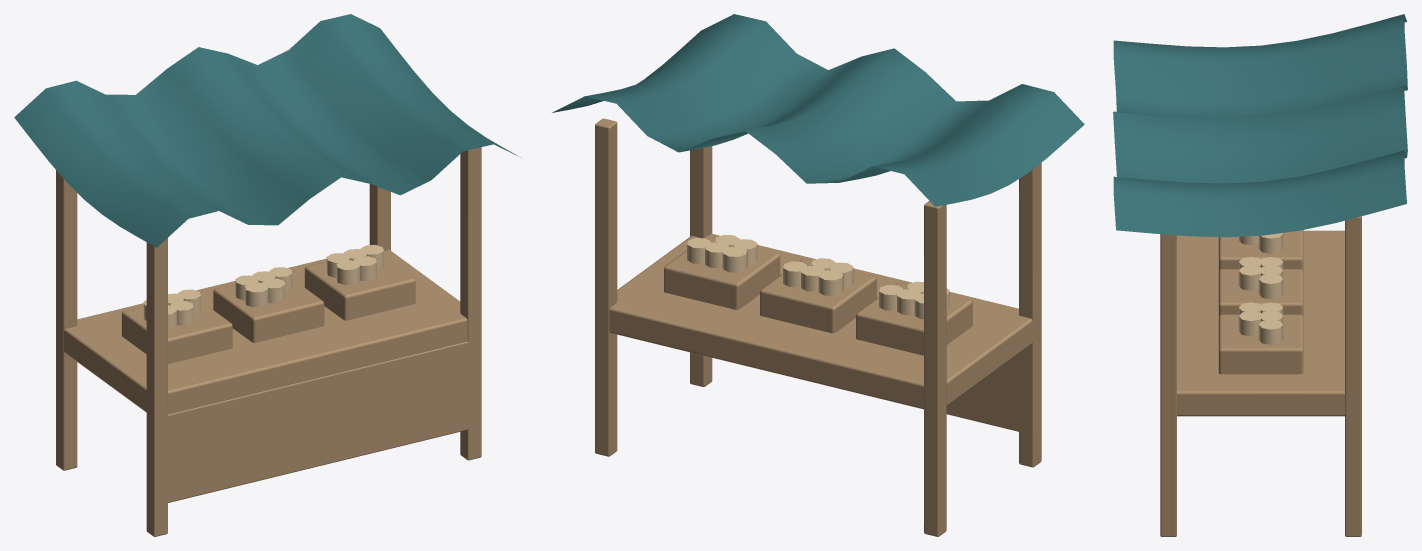
Rendered from market_stall.glb.
3 renders of one model, left to right at view 1: azimuth 30°, elevation 25°; view 2: azimuth 150°, elevation 25°; view 3: azimuth 270°, elevation 25°, orthographic. The views are drawn at different scales.
Visible parts, largest first — view 1: market_stall; view 2: market_stall; view 3: market_stall.
Part boxes in pixels (x1,y1,x2,y2): market_stall: (14,14,520,536); market_stall: (552,14,1084,536); market_stall: (1113,14,1407,536).
Bounding box in the file's own units: 2.8 × 2.66 × 1.92.
